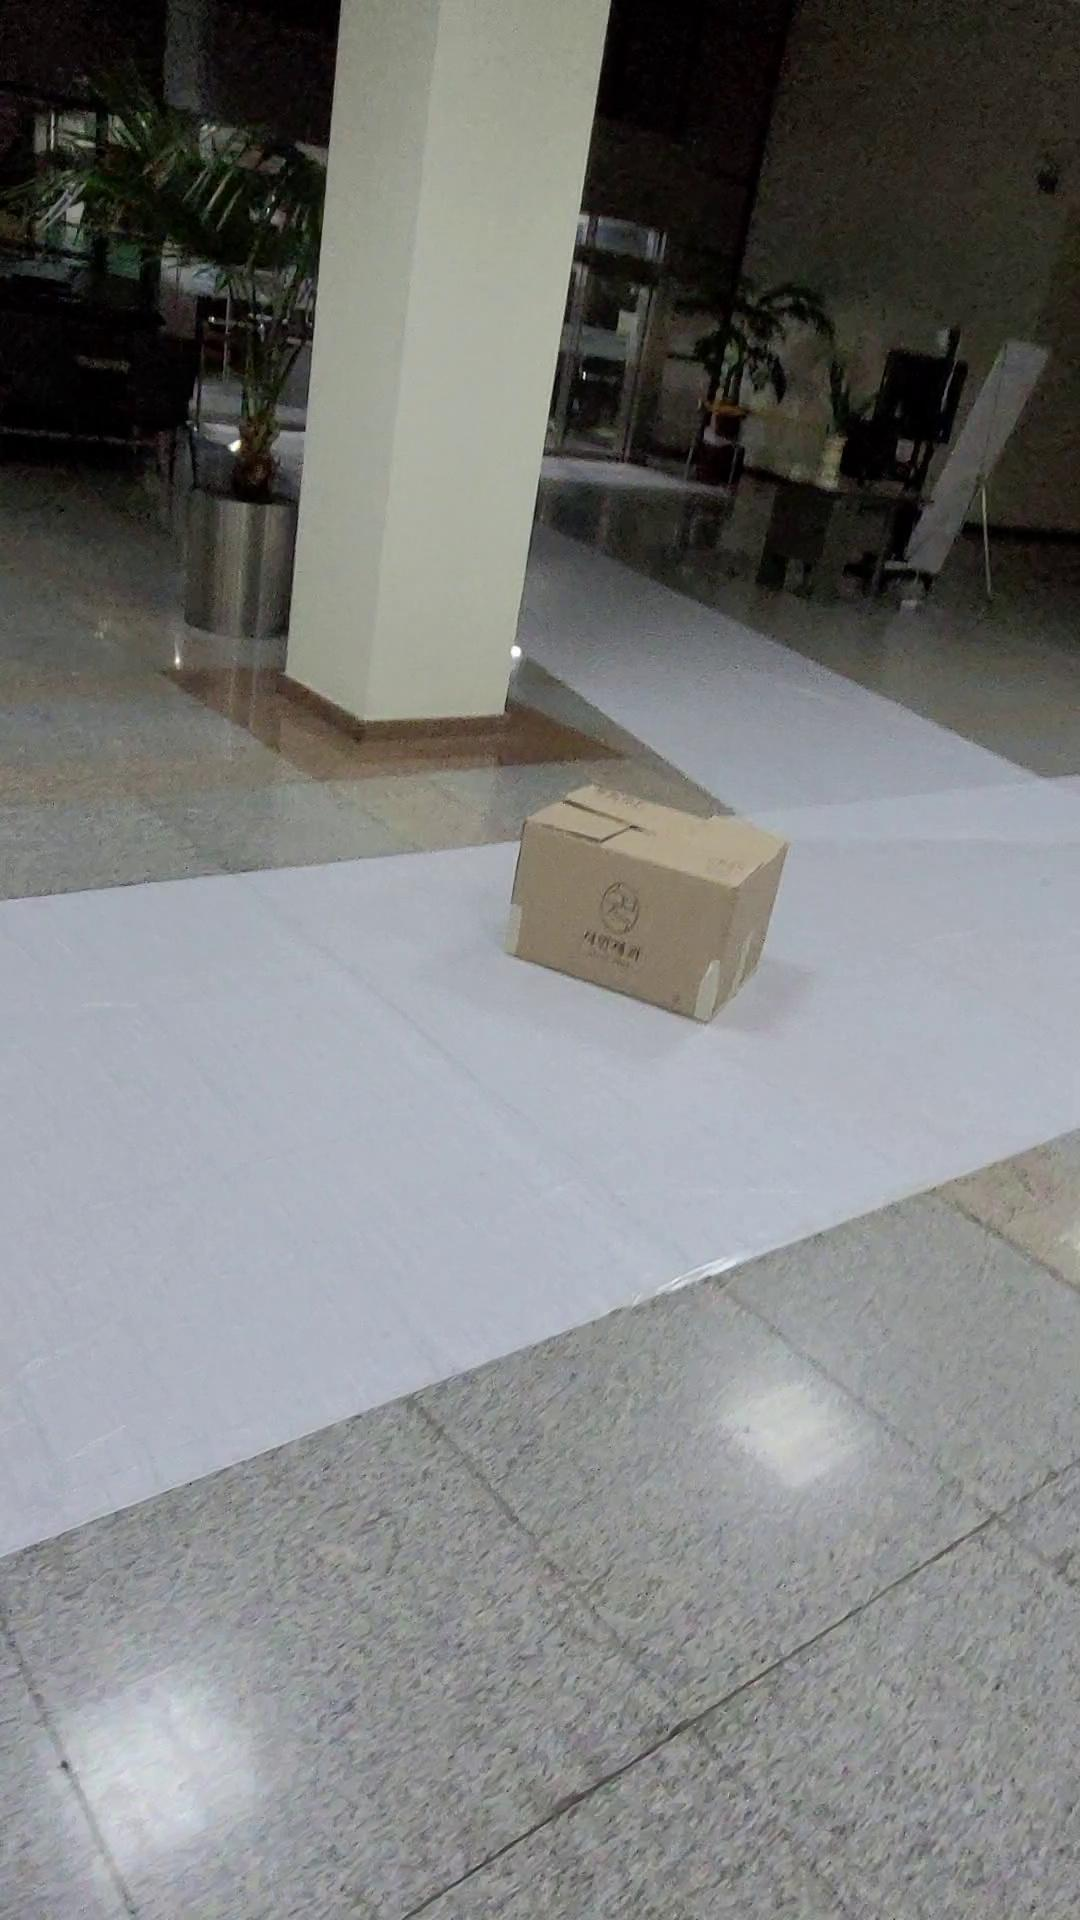Box: (458, 765, 833, 1042)
